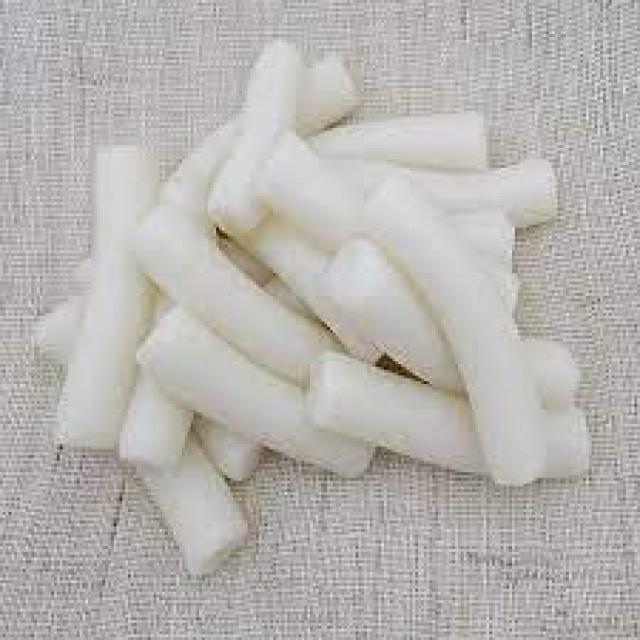rice_cake: (63, 43, 592, 576)
